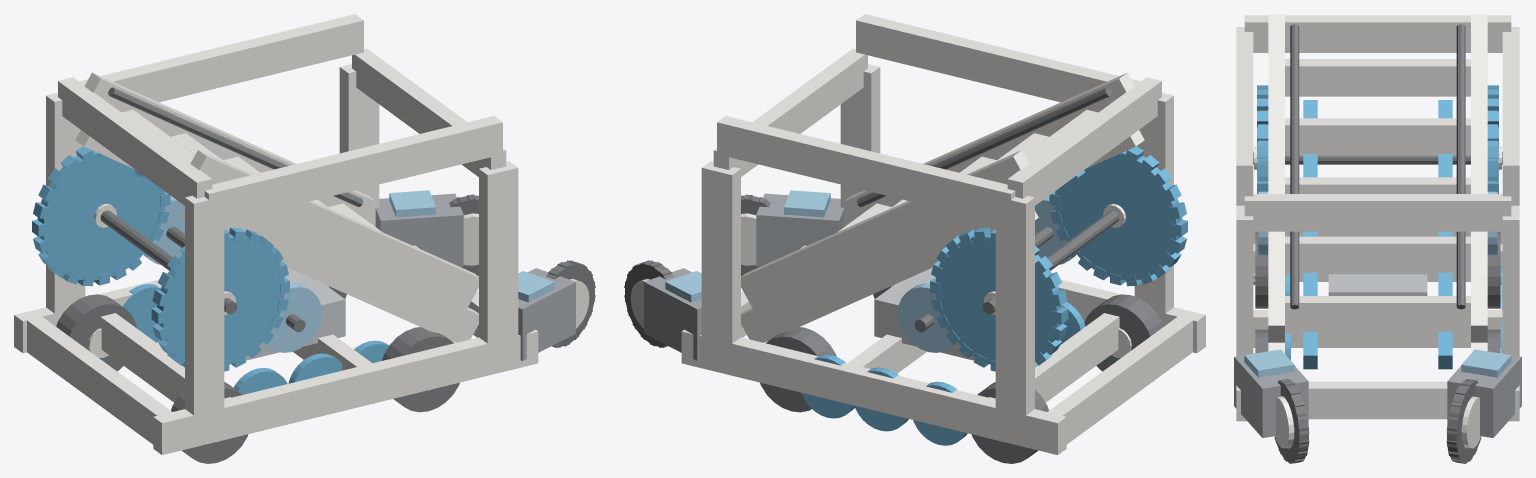
The model's file is 2024-iq-robot.glb.
3 renders of one model, left to right at view 1: azimuth 30°, elevation 25°; view 2: azimuth 150°, elevation 25°; view 3: azimuth 270°, elevation 25°, orthographic. The views are drawn at different scales.
Parts seen in each view (by area): view 1: geometry_1, geometry_40, geometry_41, geometry_39, geometry_25, geometry_36, geometry_24, geometry_35, geometry_68, geometry_38, geometry_2, geometry_37 (+23 smaller); view 2: geometry_0, geometry_39, geometry_68, geometry_40, geometry_23, geometry_34, geometry_22, geometry_33, geometry_41, geometry_38, geometry_2, geometry_37 (+23 smaller); view 3: geometry_37, geometry_38, geometry_26, geometry_27, geometry_30, geometry_29, geometry_3, geometry_23, geometry_25, geometry_4, geometry_39, geometry_40 (+23 smaller).
Boxes of the visible parts, x1,y1,x2,y2 form: geometry_1: [153, 329, 538, 454]; geometry_40: [204, 116, 502, 225]; geometry_41: [37, 150, 164, 280]; geometry_39: [79, 14, 363, 102]; geometry_25: [190, 150, 478, 309]; geometry_36: [185, 195, 224, 430]; geometry_24: [181, 211, 478, 342]; geometry_35: [479, 161, 518, 359]; geometry_68: [157, 233, 284, 364]; geometry_38: [58, 77, 212, 205]; geometry_2: [27, 313, 171, 444]; geometry_37: [352, 48, 506, 176]; geometry_0: [681, 329, 1066, 454]; geometry_39: [717, 116, 1015, 223]; geometry_68: [1055, 150, 1182, 280]; geometry_40: [856, 14, 1140, 102]; geometry_23: [741, 150, 1029, 310]; geometry_34: [995, 195, 1034, 415]; geometry_22: [741, 211, 1038, 342]; geometry_33: [701, 161, 740, 359]; geometry_41: [935, 233, 1062, 364]; geometry_38: [1007, 77, 1161, 205]; geometry_2: [1048, 313, 1192, 444]; geometry_37: [713, 48, 867, 176]; geometry_37: [1244, 194, 1511, 231]; geometry_38: [1244, 15, 1511, 52]; geometry_26: [1285, 296, 1470, 333]; geometry_27: [1285, 236, 1470, 274]; geometry_30: [1285, 59, 1470, 96]; geometry_29: [1285, 118, 1470, 155]; geometry_3: [1308, 381, 1447, 419]; geometry_23: [1471, 14, 1487, 342]; geometry_25: [1268, 14, 1284, 342]; geometry_4: [1253, 310, 1502, 347]; geometry_39: [1502, 28, 1519, 196]; geometry_40: [1236, 28, 1253, 196].
Size of the model in its own units: 0.3971 by 0.2459 by 0.2214.
